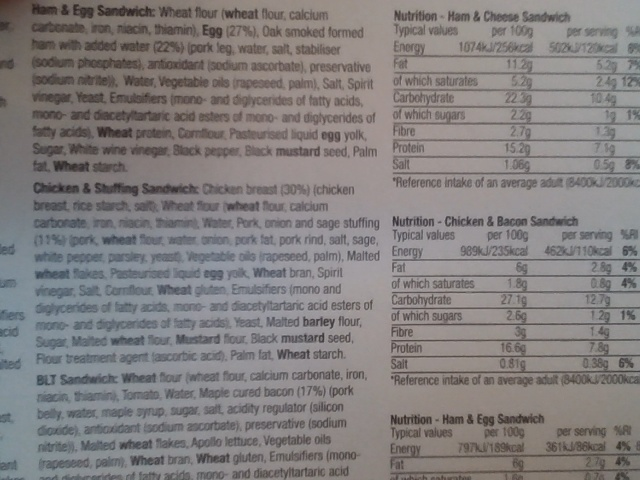egg: (198, 22, 226, 43)
wheat: (95, 123, 136, 141), (155, 281, 195, 296)
